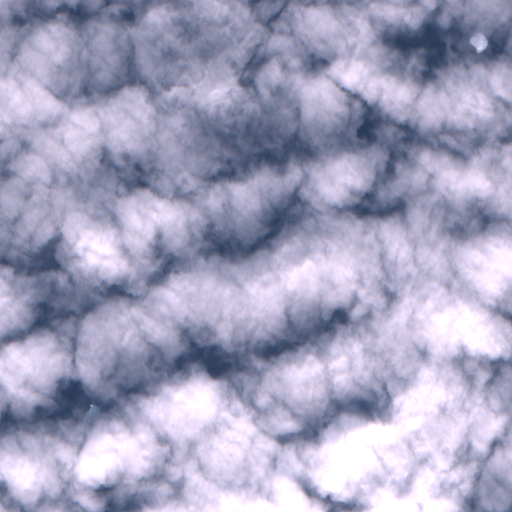Iceberg: (470, 33, 486, 52), (85, 404, 99, 422)
